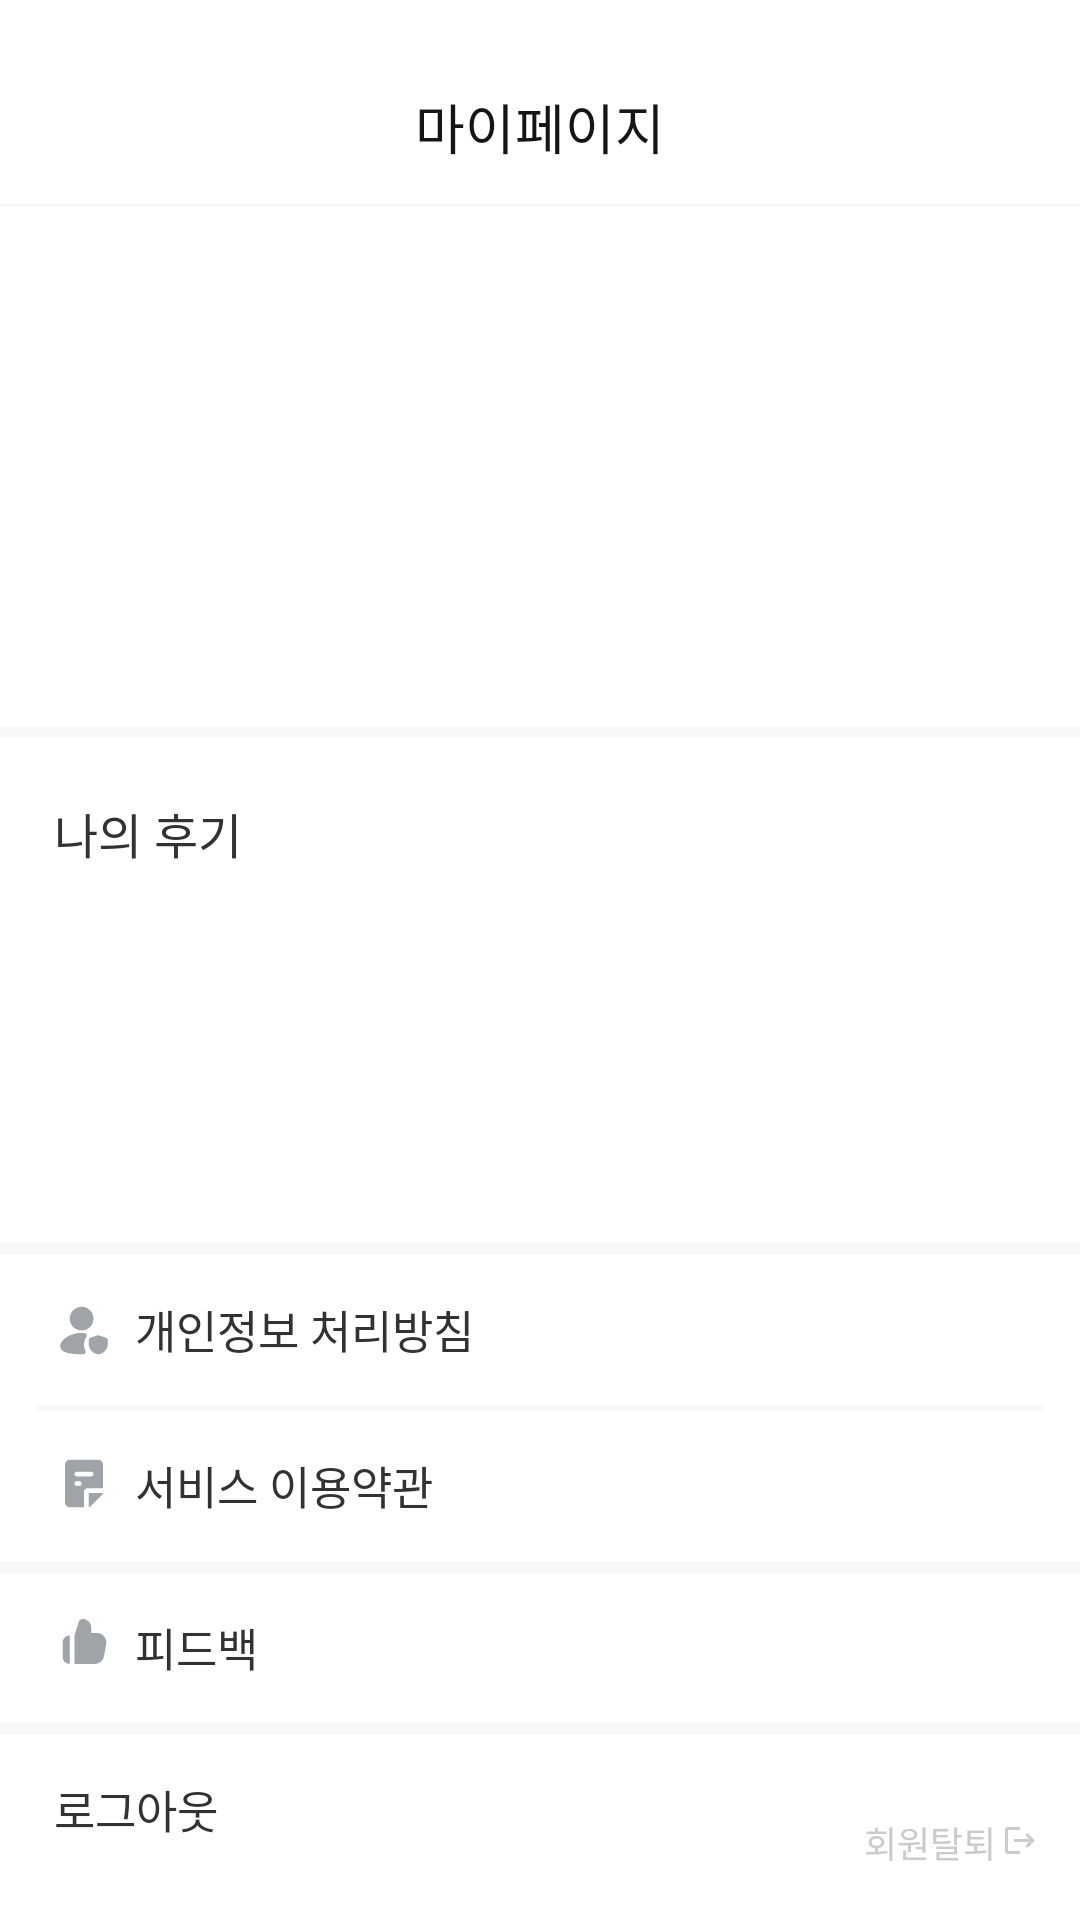

Locate icon controls on the screen. Image size 1080x1920, boxes as [x1, y1, x2, y2].
document: [65, 1460, 103, 1507]
feedback: [63, 1619, 106, 1664]
user security: [60, 1307, 108, 1354]
